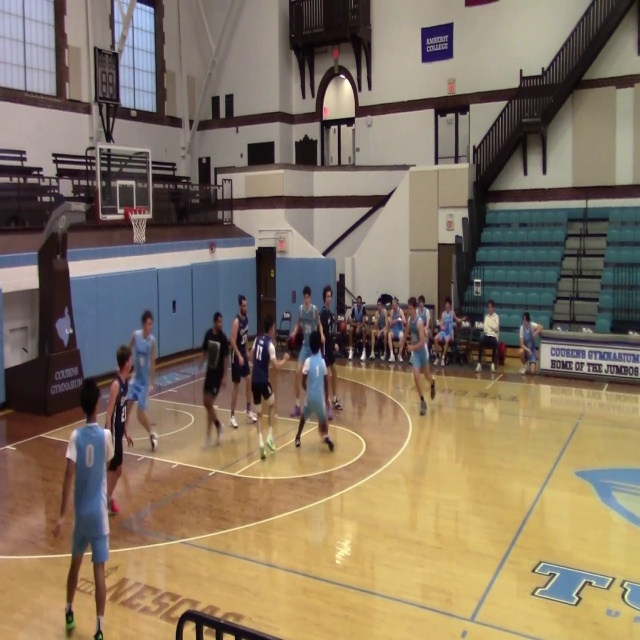Basketball: (103, 428, 115, 462), (208, 341, 219, 368), (435, 336, 446, 346)
